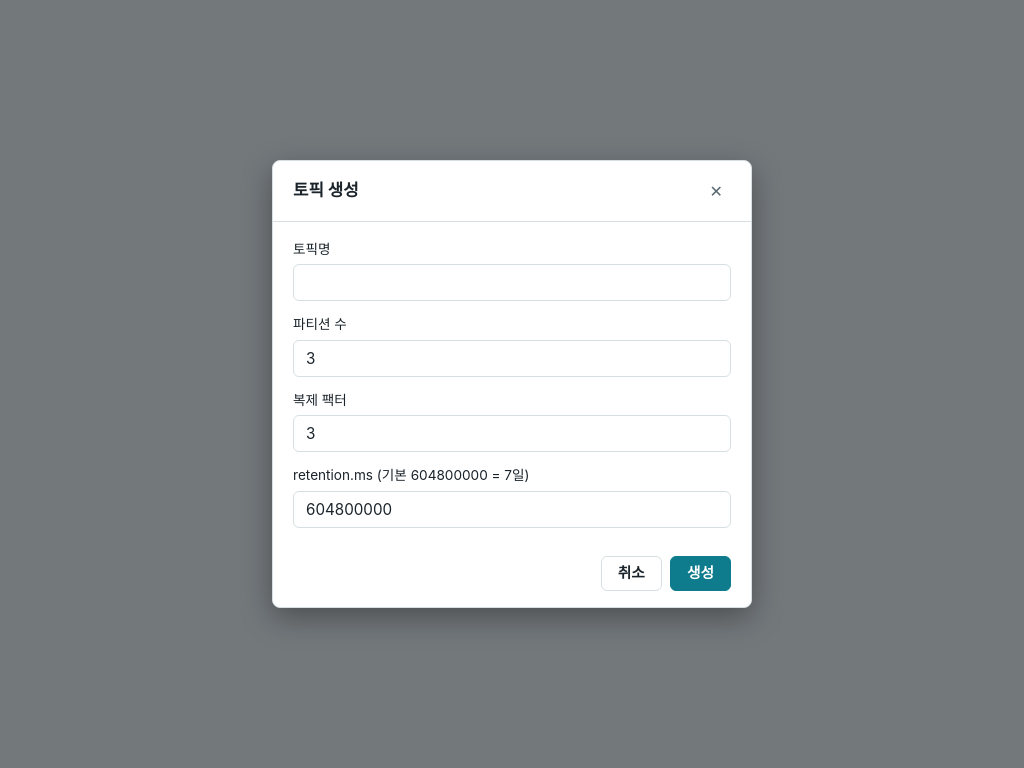
it: TopicCreateModal › 서버 에러 메시지를 팝업 안에 표시한다
In the field named "name": (512, 283) [293,264,731,301], type "dup"
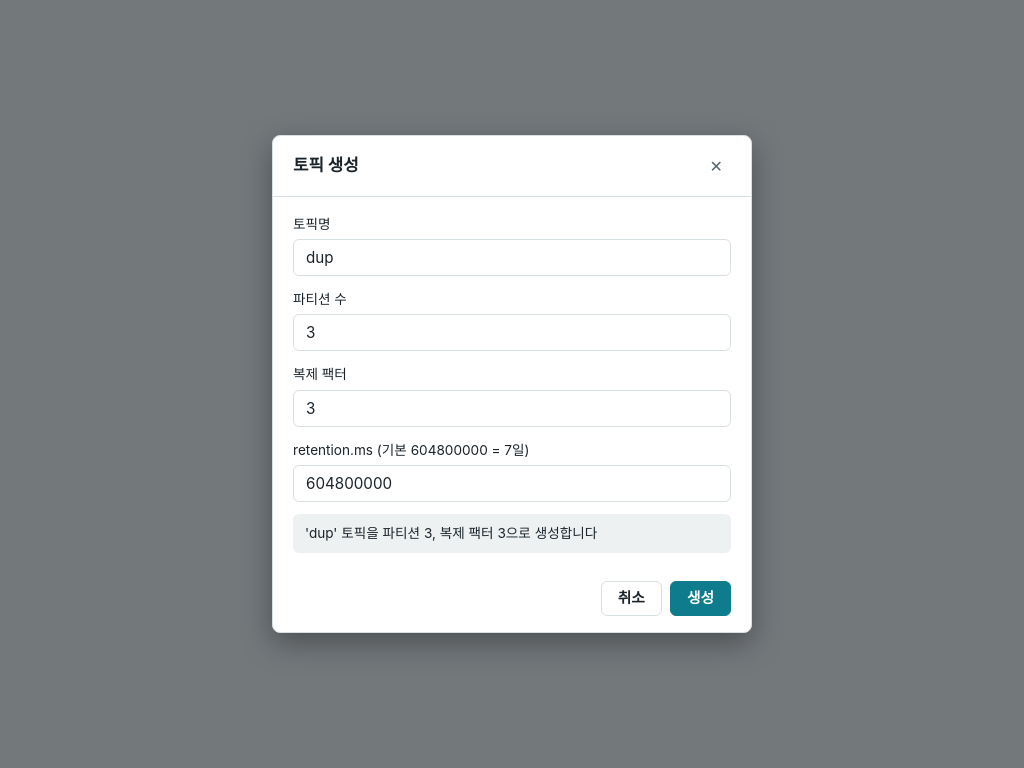
Replace the text in the number field named "partitions" with "1": (512, 333) [293,314,731,352]
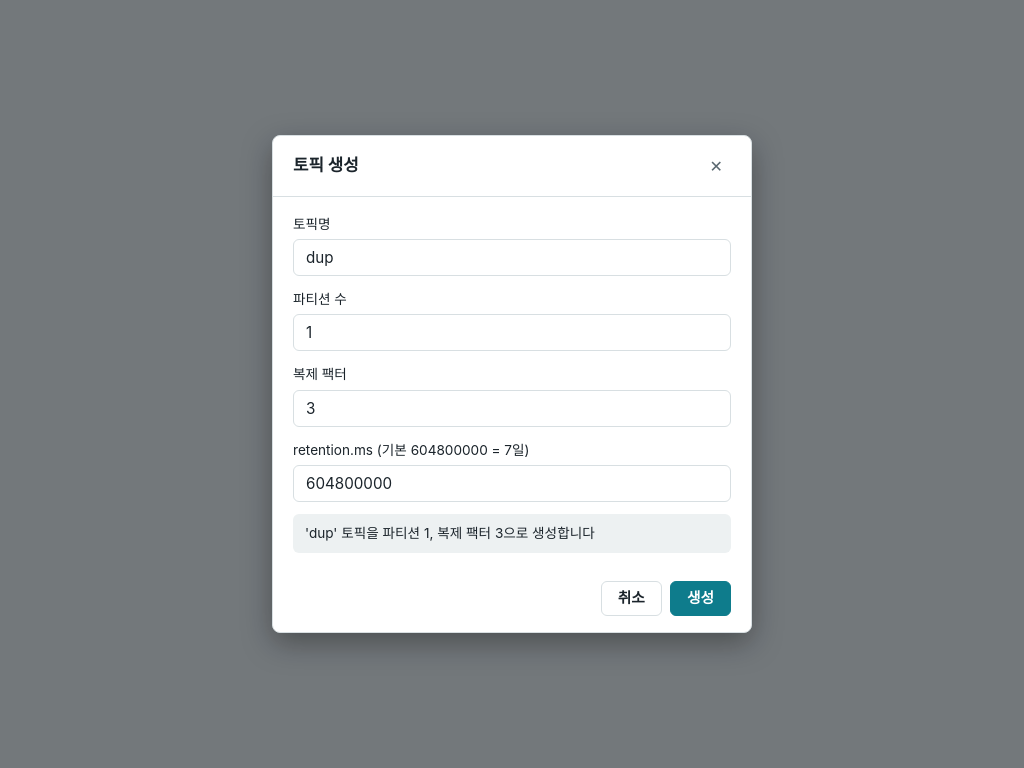
Replace the text in the number field named "replicationFactor" with "1": (512, 408) [293,390,731,427]
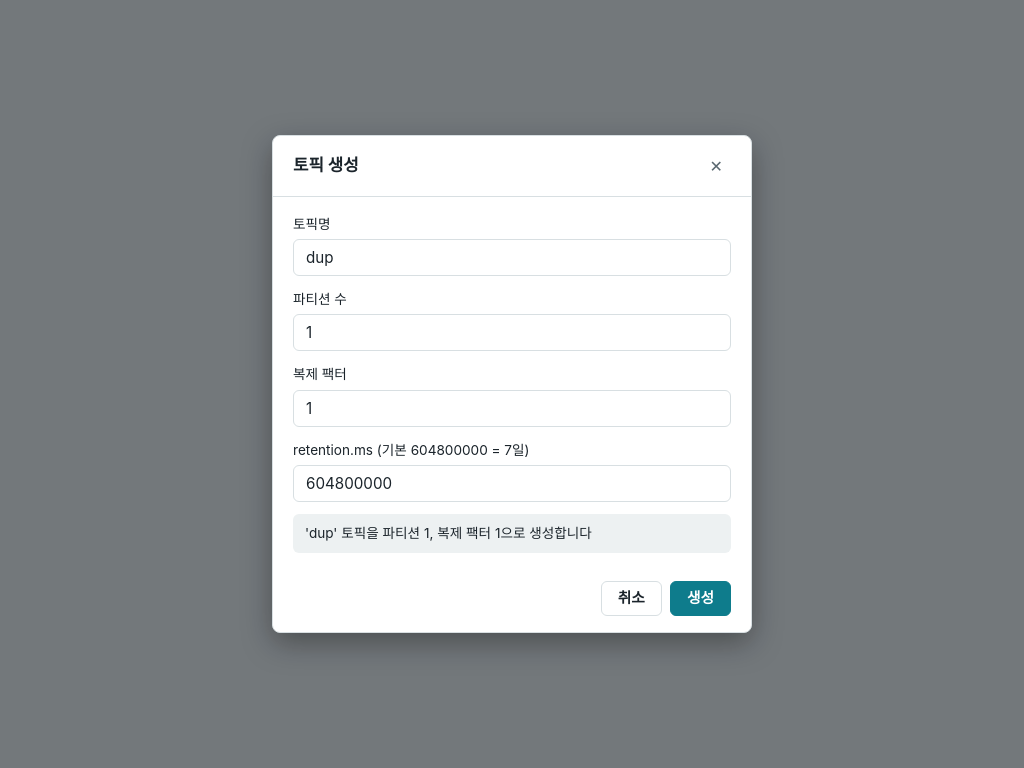
Submit the form, box [293,213,731,553]
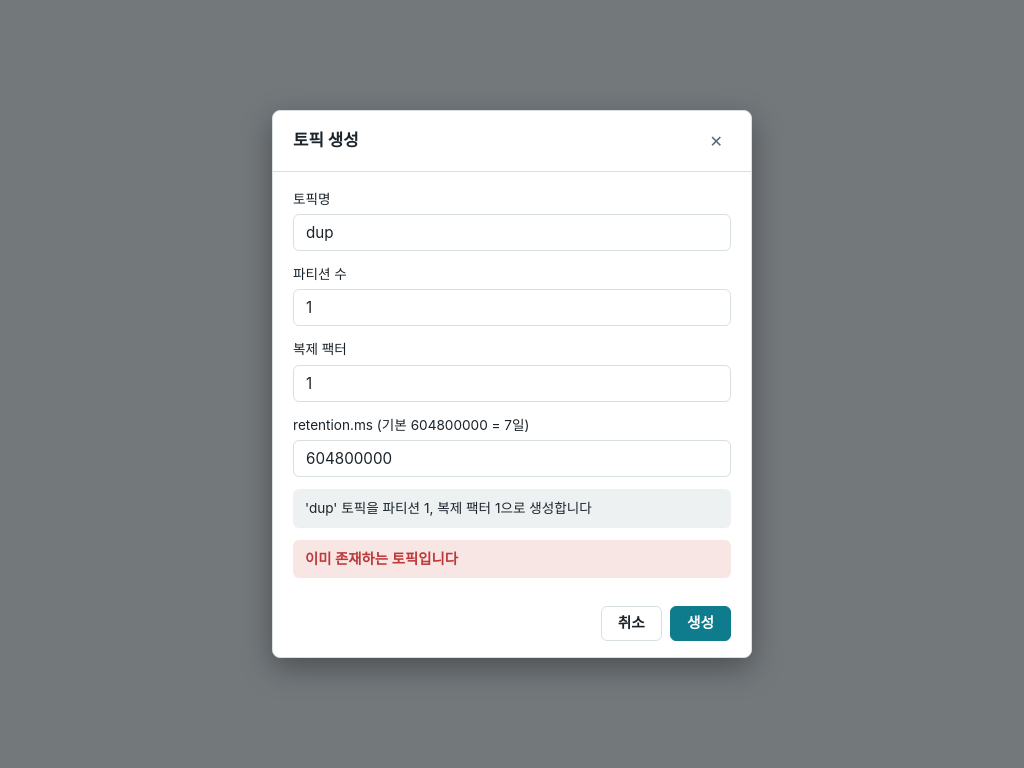
Expected: the text "이미 존재하는 토픽입니다" is shown, [293,540,731,578]
